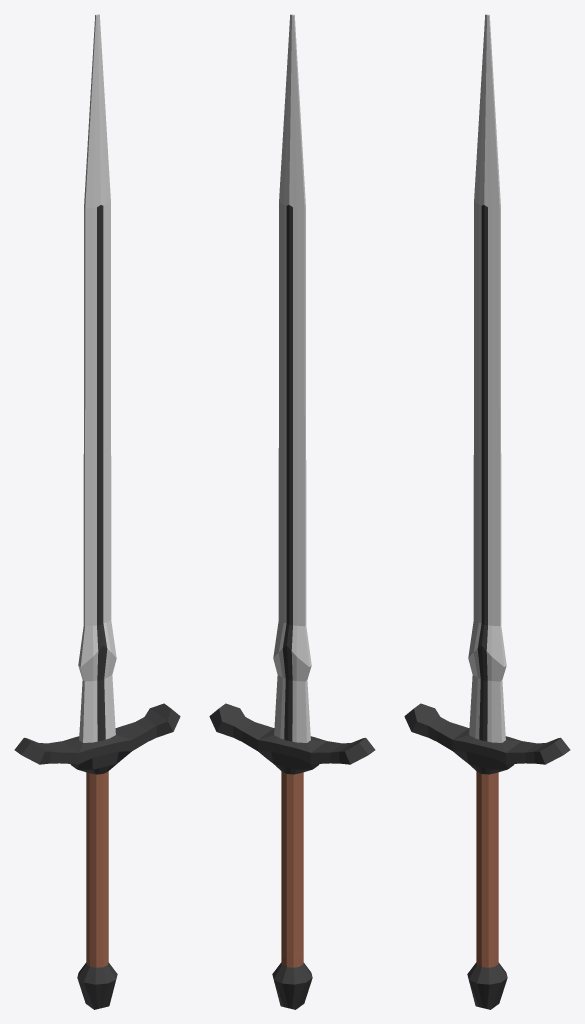
The model's file is Sword Claymore.fbx.
The picture shows the model from 3 angles, left to right: view 1: azimuth 30°, elevation 25°; view 2: azimuth 150°, elevation 25°; view 3: azimuth 330°, elevation 25°; orthographic projection.
Parts seen in each view (by area): view 1: Sword Claymore.001; view 2: Sword Claymore.001; view 3: Sword Claymore.001.
Boxes of the visible parts, x1,y1,x2,y2 form: Sword Claymore.001: (14, 14, 180, 1009); Sword Claymore.001: (209, 14, 375, 1009); Sword Claymore.001: (404, 14, 570, 1009).
Size of the model in its own units: 46.28 by 275 by 10.39.
